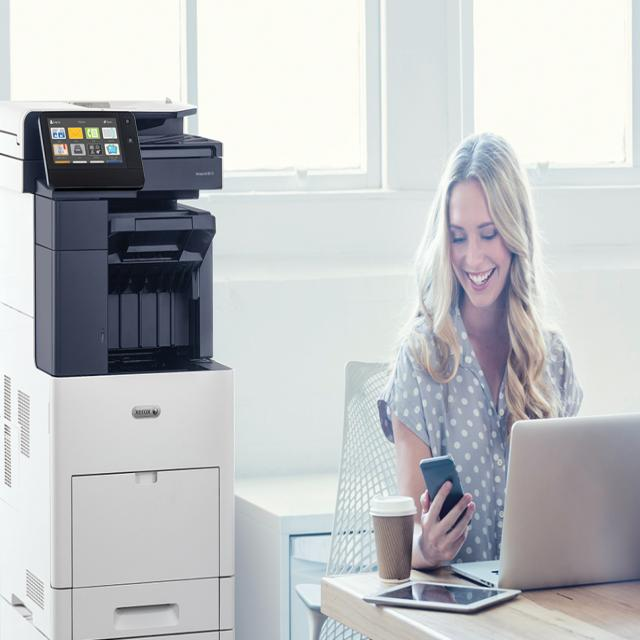printer: (0, 96, 236, 638)
